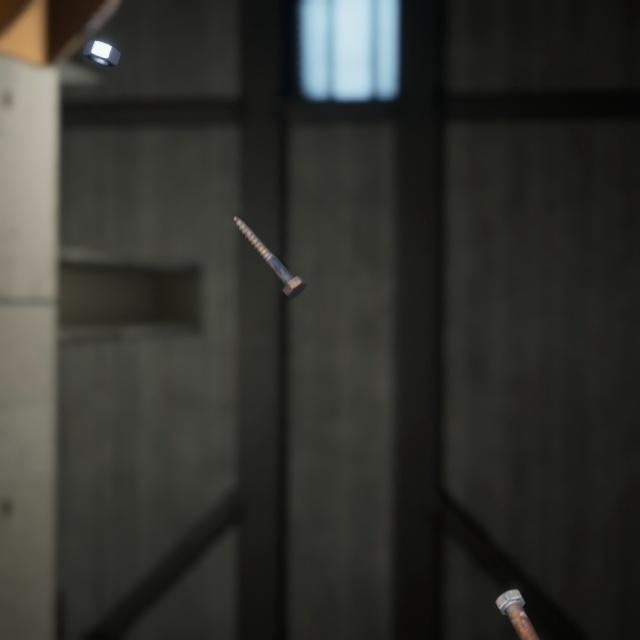bolt: (229, 194, 311, 285), (490, 561, 557, 640)
nut: (78, 26, 125, 61)
